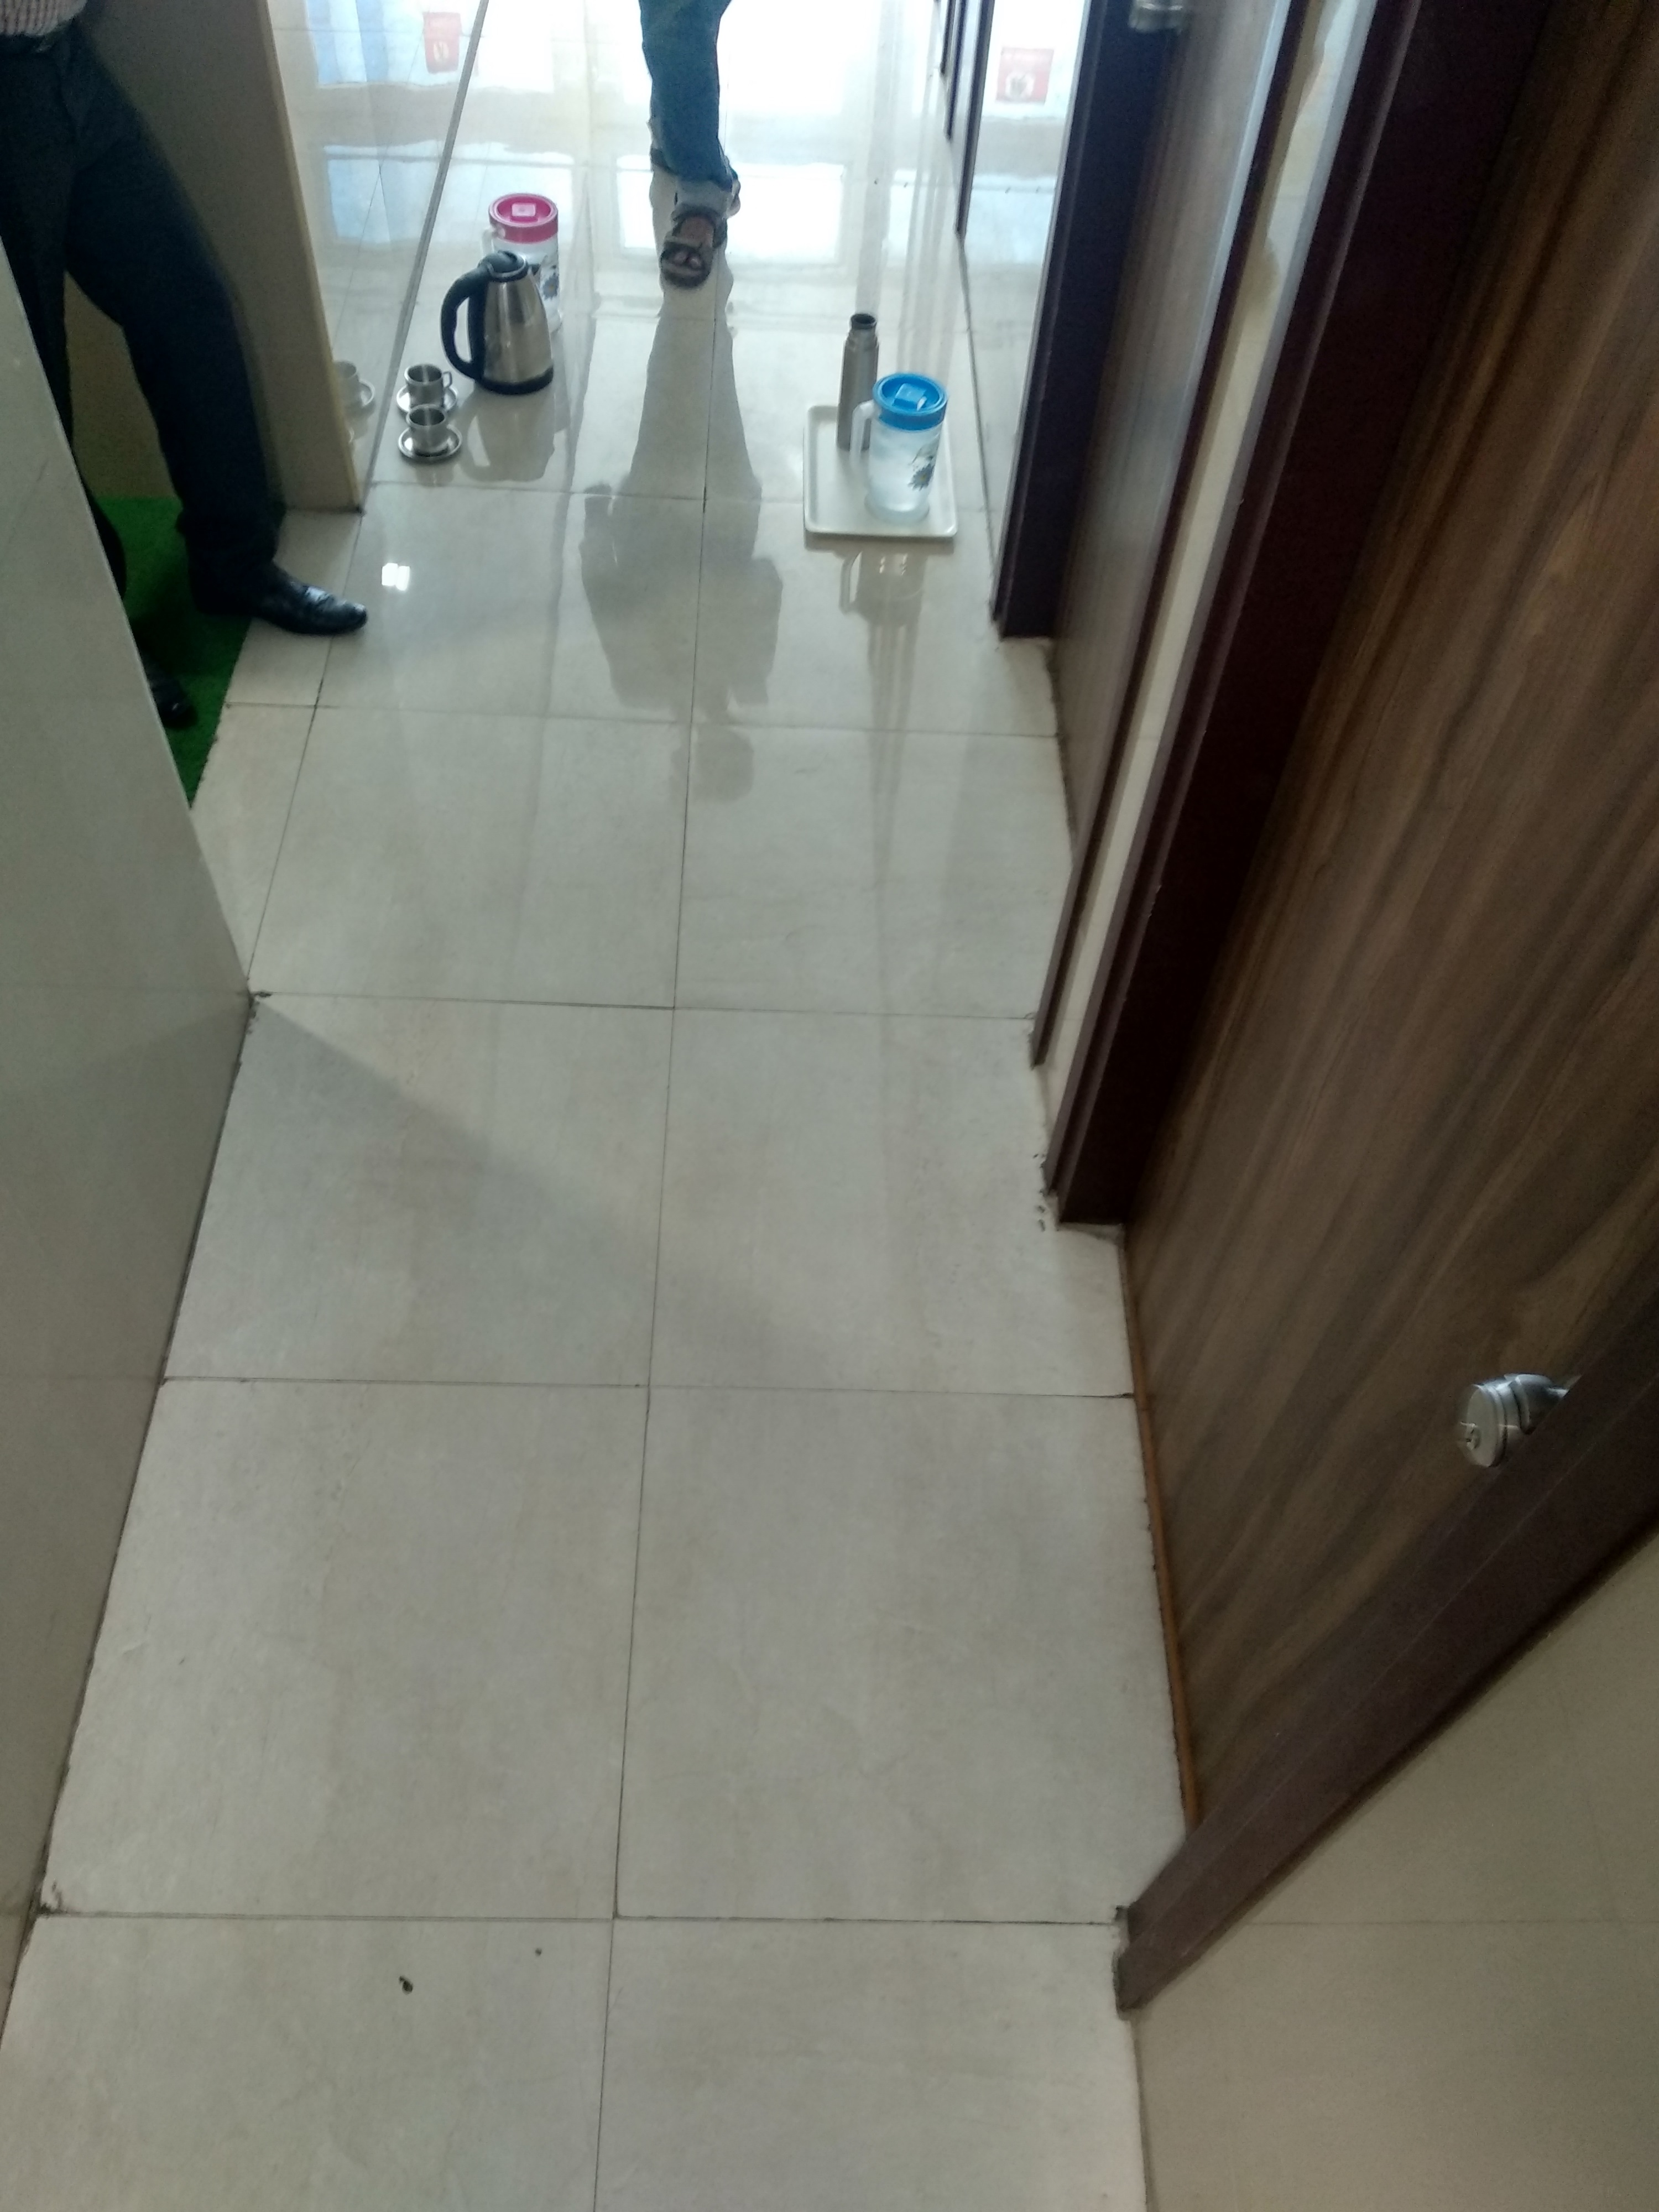CUP: (392, 402, 467, 463), (397, 357, 457, 401)
FLASK: (833, 303, 878, 460)
JUG: (439, 246, 568, 401), (849, 369, 951, 533), (476, 186, 572, 251)
